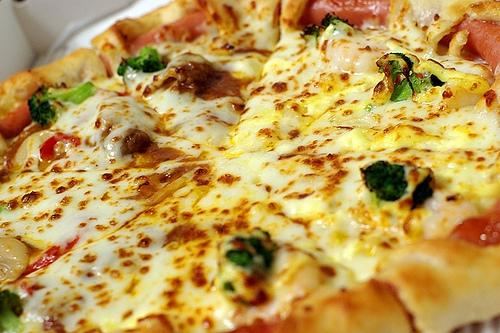broccoli: (378, 52, 444, 102), (28, 82, 98, 126), (360, 160, 408, 210), (226, 236, 274, 276), (117, 47, 166, 76), (0, 289, 25, 333), (320, 12, 355, 30)
